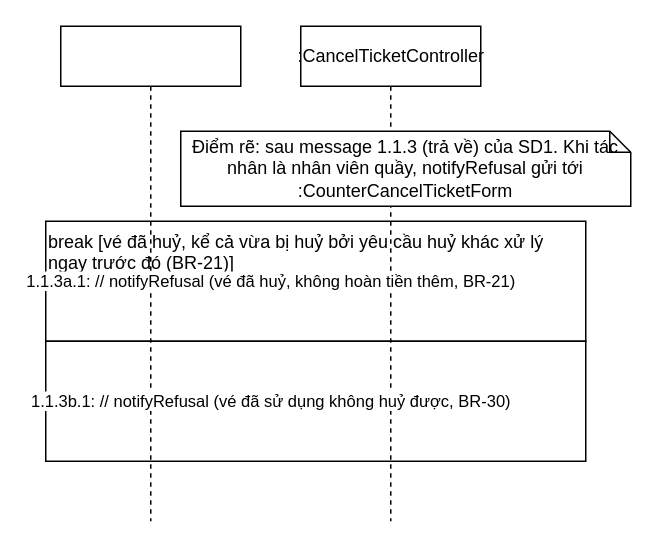
This 657x548 diagram has some shape labels left out. The shapes that lost their labels are listed below. From the top down, each one's centre as x and y in pixels, then its label:
At point 150,273: ":CancelTicketForm".
At point 315,400: "break [vé chưa huỷ và đã sử dụng, kể cả vừa được soát ngay trước đó (BR-30)]".
